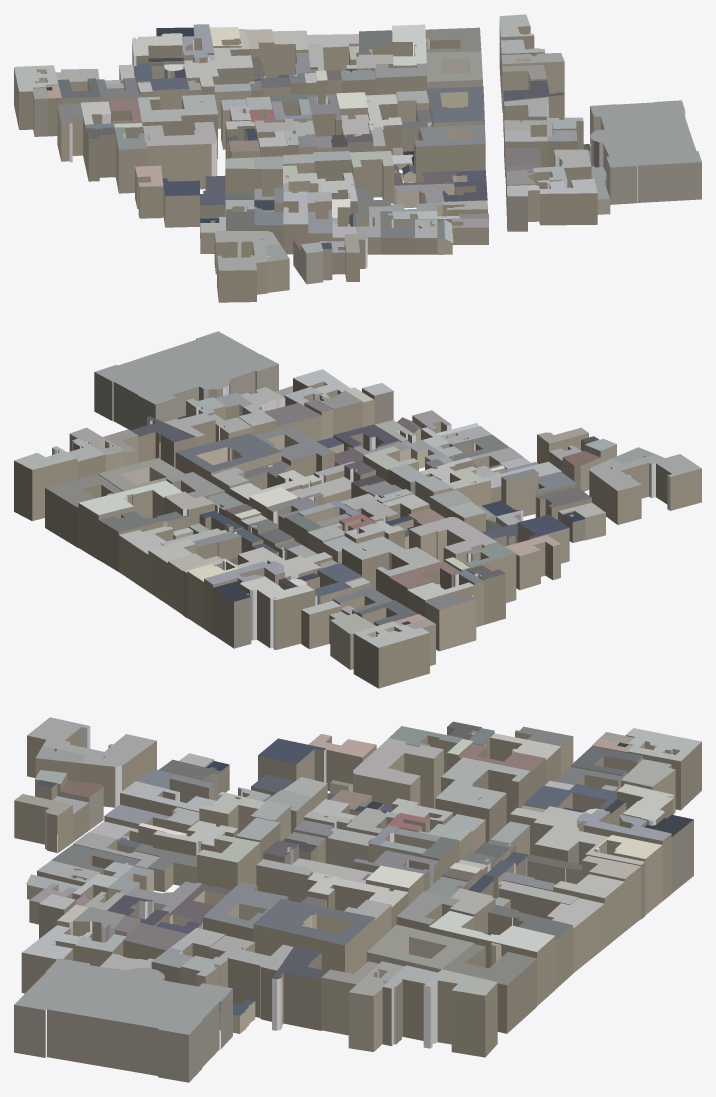
The picture shows the model from 3 angles, top to bottom: view 1: azimuth 30°, elevation 25°; view 2: azimuth 150°, elevation 25°; view 3: azimuth 270°, elevation 25°; orthographic projection. The views are drawn at different scales.
Parts seen in each view (by area): view 1: tuile; view 2: tuile; view 3: tuile.
Part boxes in pixels (x1,y1,x2,y2): tuile: [14, 14, 701, 302]; tuile: [14, 331, 701, 688]; tuile: [14, 717, 701, 1082].
Bounding box in the file's own units: 304 × 29.34 × 273.
